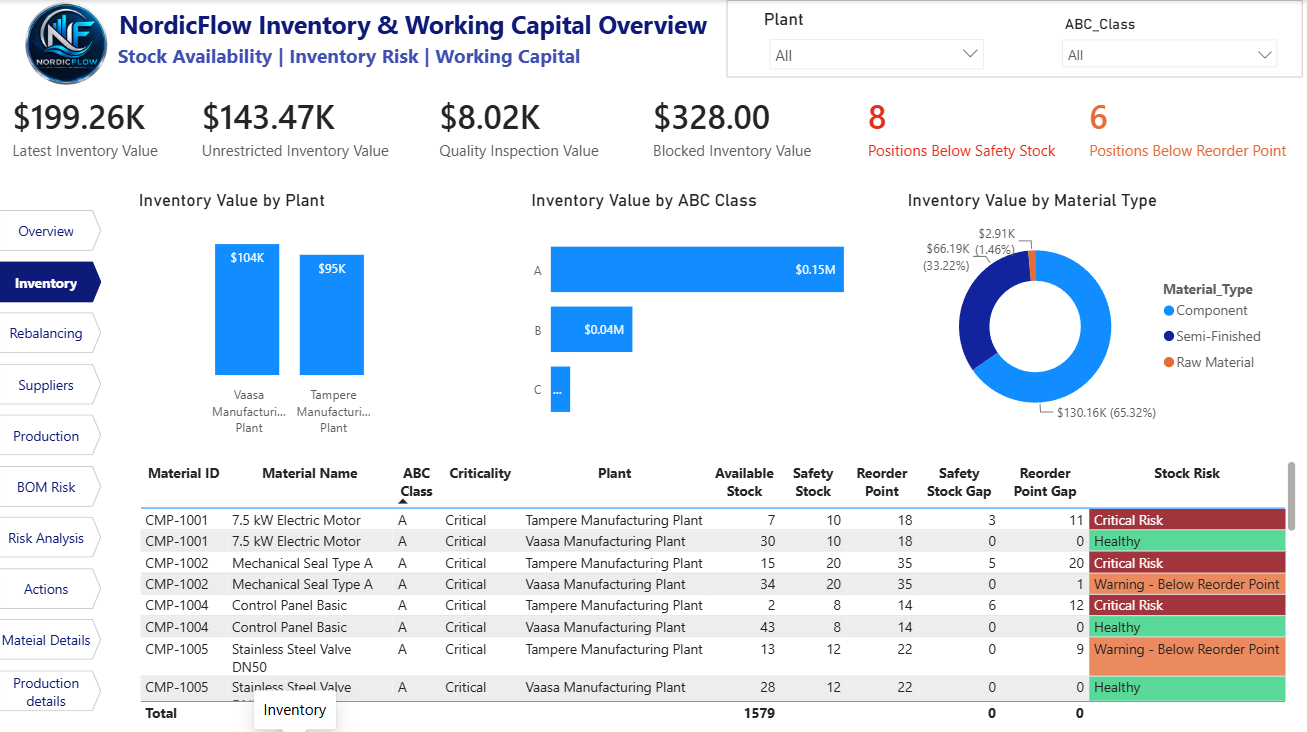

Layout of this report page (visuals, bound fields, positions):
{"tool":"powerbi","page":{"name":"Inventory","canvas":[1280,720],"ordinal":1},"visuals":[{"type":"shape","box":[712.3,0,489.7,75.1],"z":0},{"type":"cardVisual","fields":{"Data":["_Measures.Latest Inventory Value"]},"box":[0.9,77.3,182.2,95.4],"z":1000},{"type":"cardVisual","fields":{"Data":["_Measures.Unrestricted Inventory Value"]},"box":[183.4,77,215.2,95.4],"z":2000},{"type":"cardVisual","fields":{"Data":["_Measures.Quality Inspection Value"]},"box":[415.8,77,195.7,95.4],"z":3000},{"type":"cardVisual","fields":{"Data":["_Measures.Blocked Inventory Value"]},"box":[624.9,77,187.1,95.4],"z":4000},{"type":"cardVisual","title":"Position below Safety S","fields":{"Data":["_Measures.Materials Below Safety Stock"]},"box":[835.2,77,216.4,95.4],"z":5000},{"type":"cardVisual","fields":{"Data":["_Measures.Materials Below Reorder Point"]},"box":[1051.6,77,228.7,95.4],"z":6000},{"type":"clusteredColumnChart","title":"Inventory Value by Plant","fields":{"Category":["Dim_plant.Plant_Name"],"Y":["_Measures.Latest Inventory Value"]},"box":[132.1,185.9,308.2,248.2],"z":7000},{"type":"donutChart","title":"Inventory Value by Material Type","fields":{"Category":["Dim_material.Material_Type"],"Y":["_Measures.Latest Inventory Value"]},"box":[884.1,185.9,364.4,248.2],"z":8000},{"type":"barChart","title":"Inventory Value by ABC Class","fields":{"Category":["Dim_material.ABC_Class"],"Y":["_Measures.Latest Inventory Value"]},"box":[516,185.9,319.2,248.2],"z":9000},{"type":"tableEx","fields":{"Values":["Dim_material.Material_ID","Dim_material.Material_Name","Dim_material.ABC_Class","Dim_material.Criticality","Dim_plant.Plant_Name","_Measures.Latest Unrestricted Qty","Dim_material.Safety_Stock_Qty","Dim_material.Reorder_Point_Qty","_Measures.Safety Stock Gap","_Measures.Reorder Point Gap","_Measures.Stock Risk Status"]},"box":[132.1,446.3,1142.1,265.4],"z":10000},{"type":"slicer","title":"Plant","fields":{"Values":["Dim_plant.Plant_Name"]},"box":[724.9,8.3,231,65.4],"z":11000},{"type":"slicer","fields":{"Values":["Dim_material.ABC_Class"]},"box":[971.1,5.6,231,64],"z":12000},{"type":"textbox","box":[112.5,2.4,590.6,48.9],"z":13000},{"type":"textbox","box":[111.3,36.7,564.9,39.1],"z":14000},{"type":"image","box":[0,0,132.1,88],"z":15000},{"type":"pageNavigator","box":[0,205.4,100.3,492.8],"z":16000},{"type":"actionButton","box":[1232.7,23.7,41.7,40.3],"z":17000}]}

Visuals, with their boxes on the page's 1280x720 design canvas (x1, y1, x2, y2). These are canvas units, not pixel positions in the 1307x732 screenshot, which may show the page scaled, cropped or inside an application window:
shape: pyautogui.locateOnScreen(712, 0, 1202, 75)
cardVisual - _Measures.Latest Inventory Value: pyautogui.locateOnScreen(1, 77, 183, 173)
cardVisual - _Measures.Unrestricted Inventory Value: pyautogui.locateOnScreen(183, 77, 399, 172)
cardVisual - _Measures.Quality Inspection Value: pyautogui.locateOnScreen(416, 77, 612, 172)
cardVisual - _Measures.Blocked Inventory Value: pyautogui.locateOnScreen(625, 77, 812, 172)
"Position below Safety S" cardVisual: pyautogui.locateOnScreen(835, 77, 1052, 172)
cardVisual - _Measures.Materials Below Reorder Point: pyautogui.locateOnScreen(1052, 77, 1280, 172)
"Inventory Value by Plant" clusteredColumnChart: pyautogui.locateOnScreen(132, 186, 440, 434)
"Inventory Value by Material Type" donutChart: pyautogui.locateOnScreen(884, 186, 1248, 434)
"Inventory Value by ABC Class" barChart: pyautogui.locateOnScreen(516, 186, 835, 434)
tableEx - Dim_material.Material_ID x Dim_material.Material_Name: pyautogui.locateOnScreen(132, 446, 1274, 712)
"Plant" slicer: pyautogui.locateOnScreen(725, 8, 956, 74)
slicer - Dim_material.ABC_Class: pyautogui.locateOnScreen(971, 6, 1202, 70)
textbox: pyautogui.locateOnScreen(112, 2, 703, 51)
textbox: pyautogui.locateOnScreen(111, 37, 676, 76)
image: pyautogui.locateOnScreen(0, 0, 132, 88)
pageNavigator: pyautogui.locateOnScreen(0, 205, 100, 698)
actionButton: pyautogui.locateOnScreen(1233, 24, 1274, 64)
